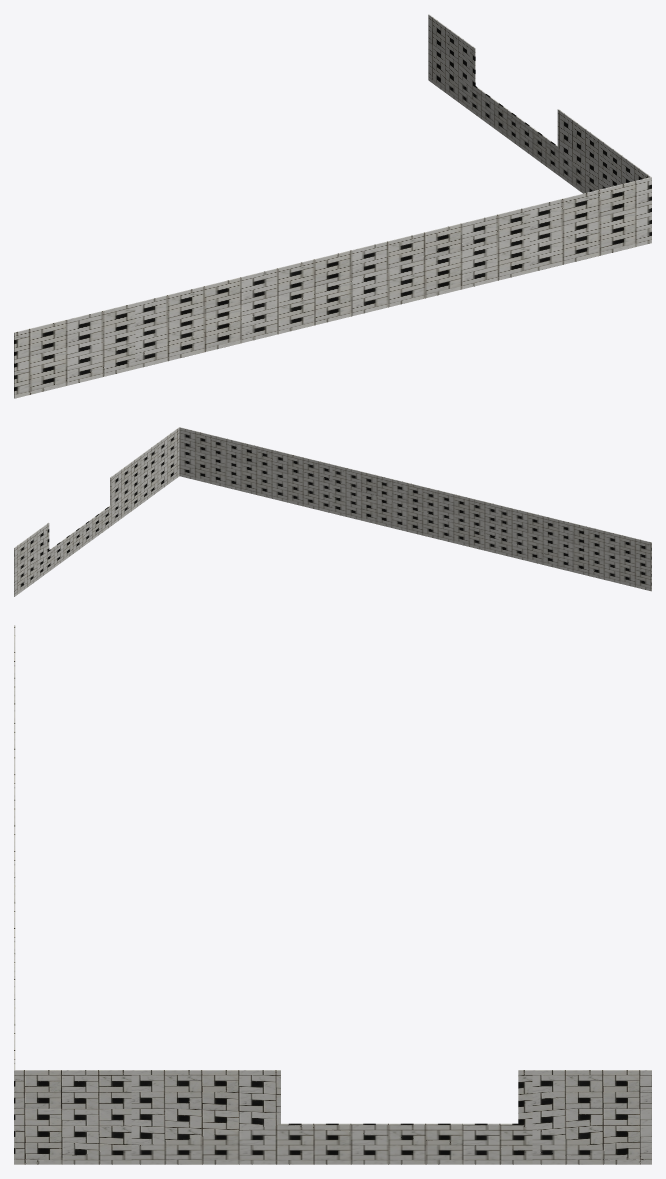
Rendered from BP_MarbleBiancoGioiaPinwheelMosaic.glb.
The picture shows the model from 3 angles, top to bottom: view 1: azimuth 30°, elevation 25°; view 2: azimuth 150°, elevation 25°; view 3: azimuth 270°, elevation 25°; orthographic projection. The views are drawn at different scales.
Parts seen in each view (by area): view 1: BP_Marble Bianco Gioia Pinwheel Mosaic.; view 2: BP_Marble Bianco Gioia Pinwheel Mosaic.; view 3: BP_Marble Bianco Gioia Pinwheel Mosaic..
Part boxes in pixels (left/top/right/bottom): BP_Marble Bianco Gioia Pinwheel Mosaic.: left=14, top=14, right=651, bottom=398; BP_Marble Bianco Gioia Pinwheel Mosaic.: left=14, top=427, right=651, bottom=596; BP_Marble Bianco Gioia Pinwheel Mosaic.: left=14, top=625, right=651, bottom=1164.
Bounding box in the file's own units: 7.1 × 0.7 × 4.3.
1 material, 1 textured.
